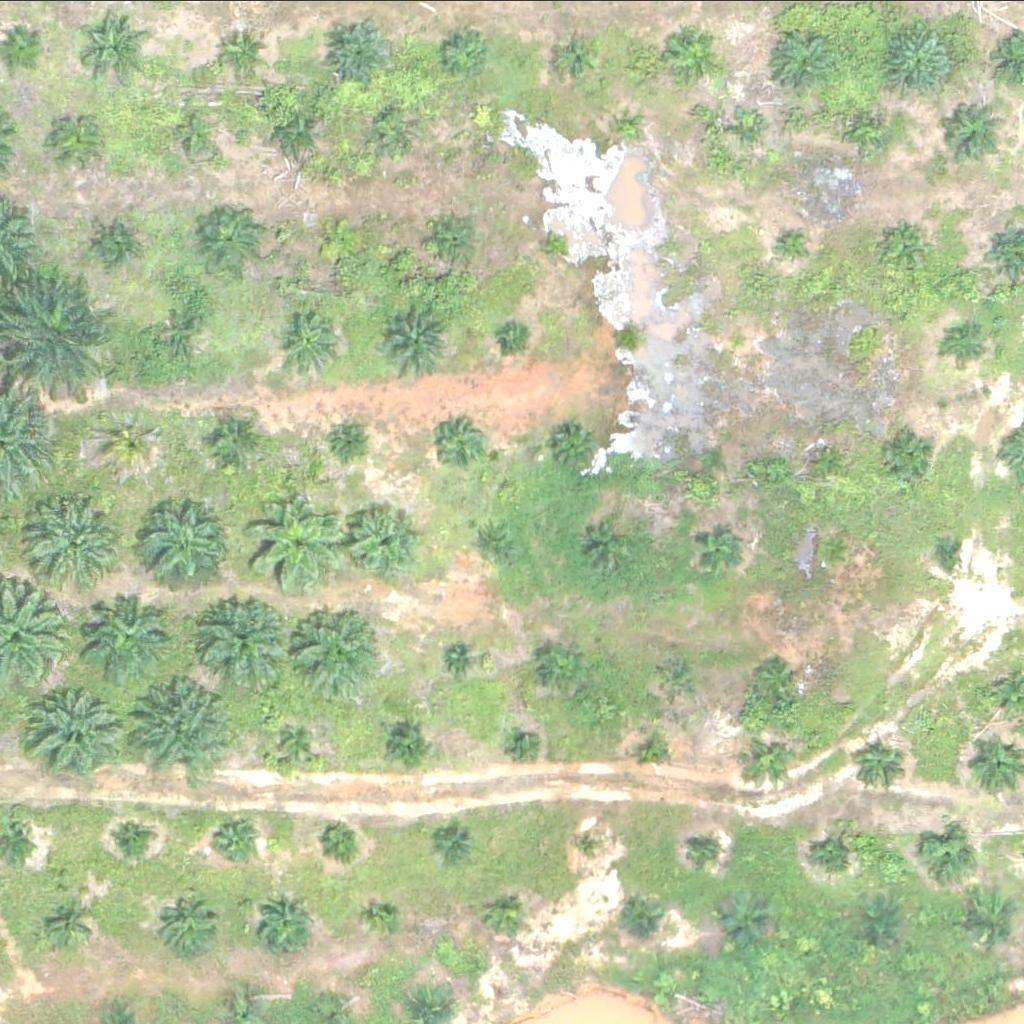Kelapa_Sawit: (31, 682, 132, 782), (241, 492, 342, 592), (133, 674, 234, 774), (35, 491, 124, 579), (342, 497, 430, 585), (291, 606, 379, 694), (199, 594, 287, 682), (86, 587, 174, 675), (131, 498, 219, 585), (766, 25, 842, 100), (880, 21, 956, 96), (378, 304, 454, 379), (939, 104, 1002, 167), (92, 18, 155, 81), (46, 112, 109, 175), (328, 16, 391, 79), (163, 101, 226, 164), (201, 209, 264, 271), (280, 309, 343, 371), (257, 893, 320, 955), (150, 305, 213, 367), (751, 648, 802, 698), (881, 428, 932, 478), (271, 104, 322, 154), (160, 902, 211, 952), (214, 28, 265, 78), (365, 103, 416, 153), (92, 224, 143, 274), (311, 215, 362, 265), (438, 27, 489, 77), (745, 735, 796, 785), (484, 889, 535, 939), (209, 414, 259, 464), (672, 28, 722, 78), (2, 23, 52, 73), (432, 209, 482, 259), (555, 32, 605, 82), (816, 827, 866, 877), (925, 829, 975, 879), (858, 740, 908, 790), (438, 420, 488, 470), (552, 417, 602, 467), (691, 520, 741, 570), (584, 520, 634, 570), (470, 513, 520, 563), (540, 640, 590, 690), (380, 721, 430, 771), (724, 893, 774, 943), (109, 413, 159, 463), (271, 718, 321, 768), (207, 813, 257, 863), (950, 327, 988, 365), (625, 901, 663, 939), (893, 223, 931, 260), (817, 531, 854, 569), (662, 657, 699, 695), (369, 898, 406, 936), (863, 902, 901, 939), (113, 821, 151, 858), (46, 903, 84, 940), (317, 819, 355, 856), (811, 439, 849, 476), (441, 823, 478, 860), (501, 325, 527, 350), (857, 113, 883, 138), (612, 120, 637, 145), (740, 115, 765, 140), (783, 232, 808, 257), (539, 232, 564, 257), (938, 542, 963, 567), (511, 734, 536, 759), (641, 741, 666, 766), (580, 829, 605, 854), (692, 835, 717, 860), (337, 424, 362, 449), (728, 326, 753, 351), (447, 647, 472, 671)
